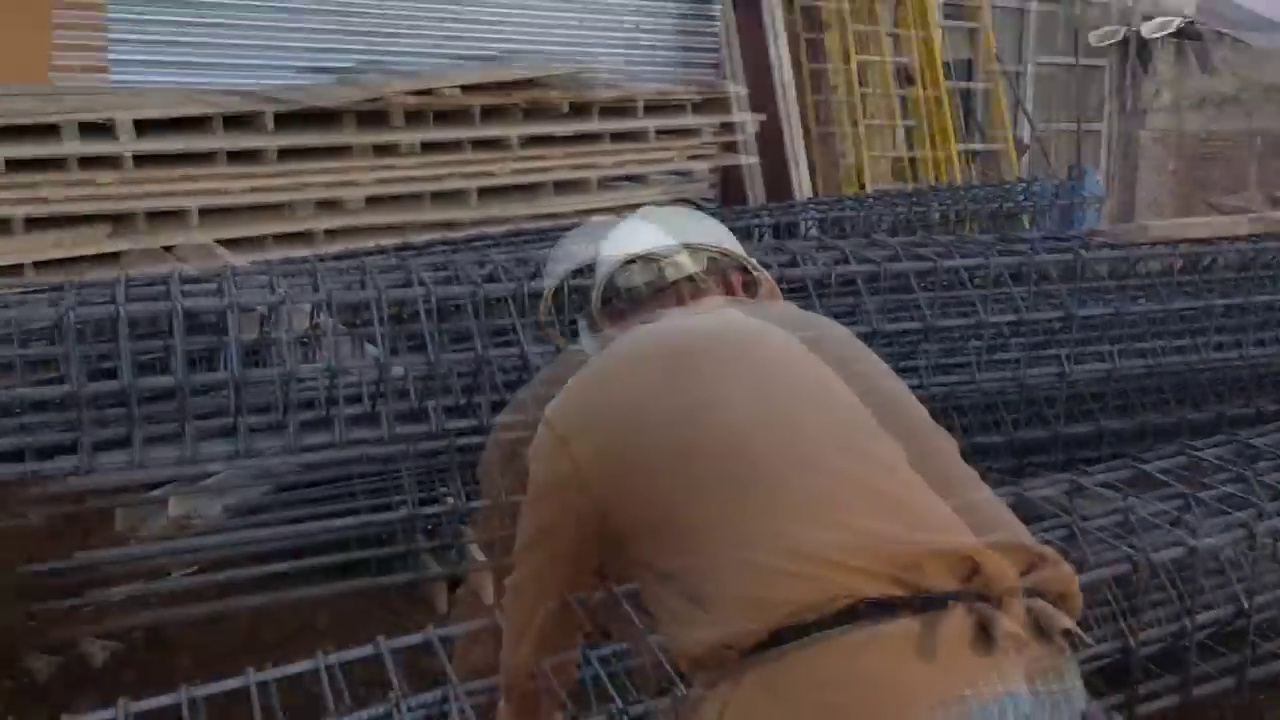helmet: (585, 208, 784, 332)
helmet-on: (574, 203, 787, 368)
person: (482, 183, 1100, 717)
